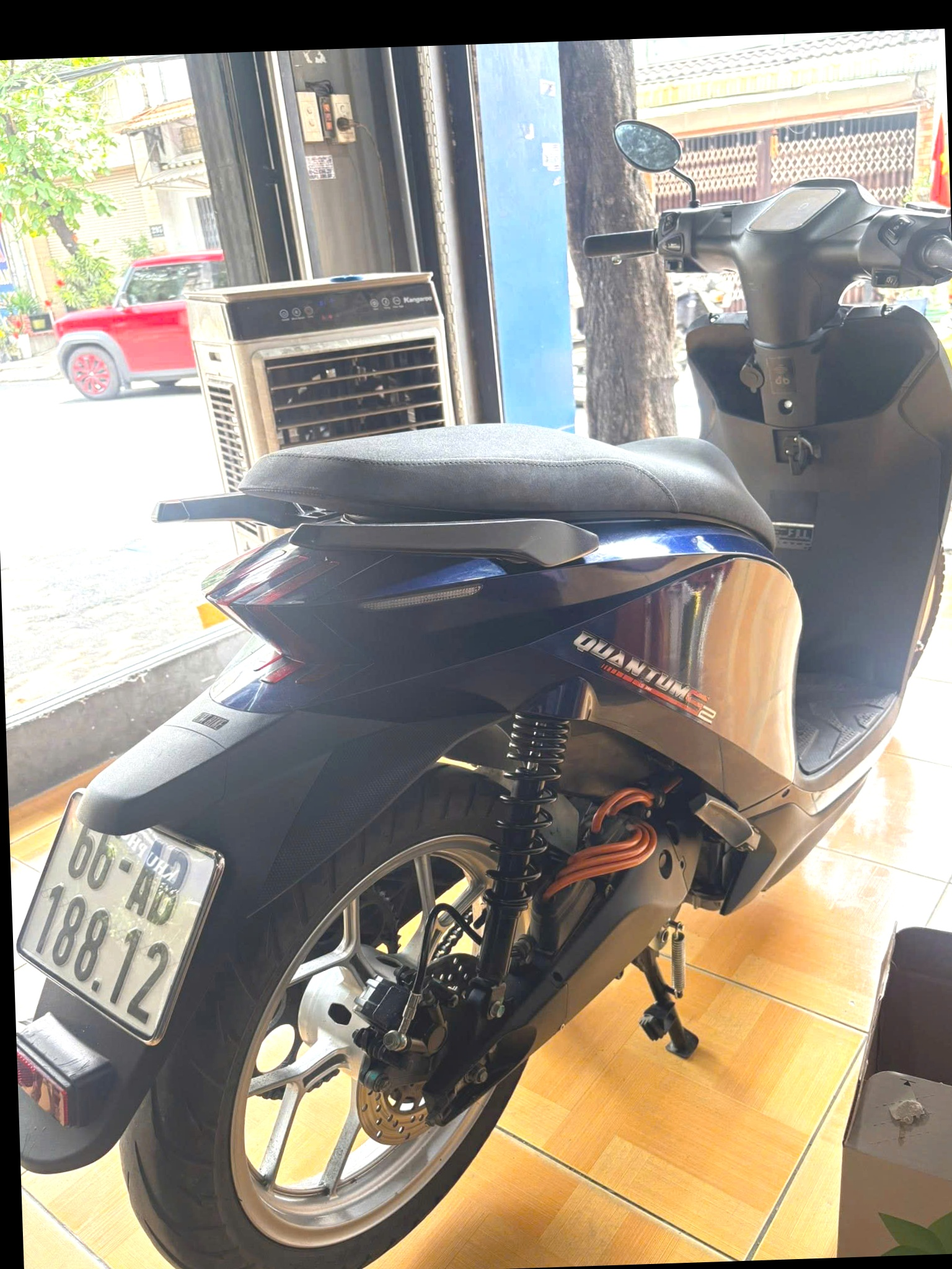Bien-so: (0, 770, 218, 1058)
